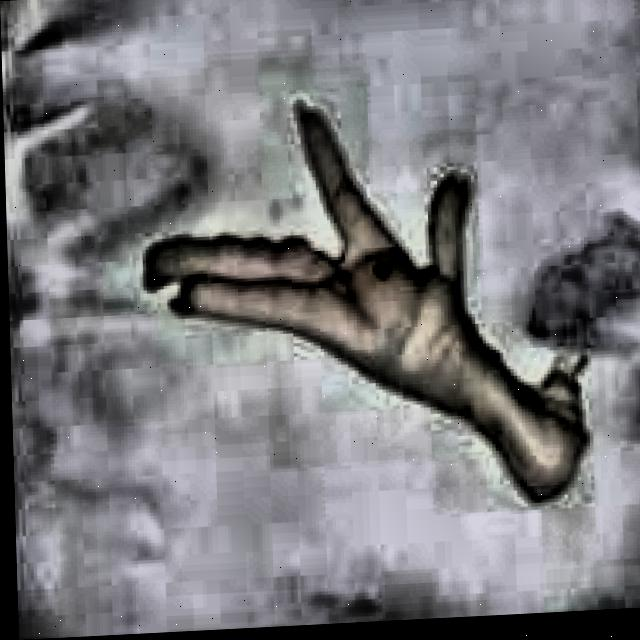Bumble foot: (131, 91, 588, 530), (364, 264, 394, 292)
